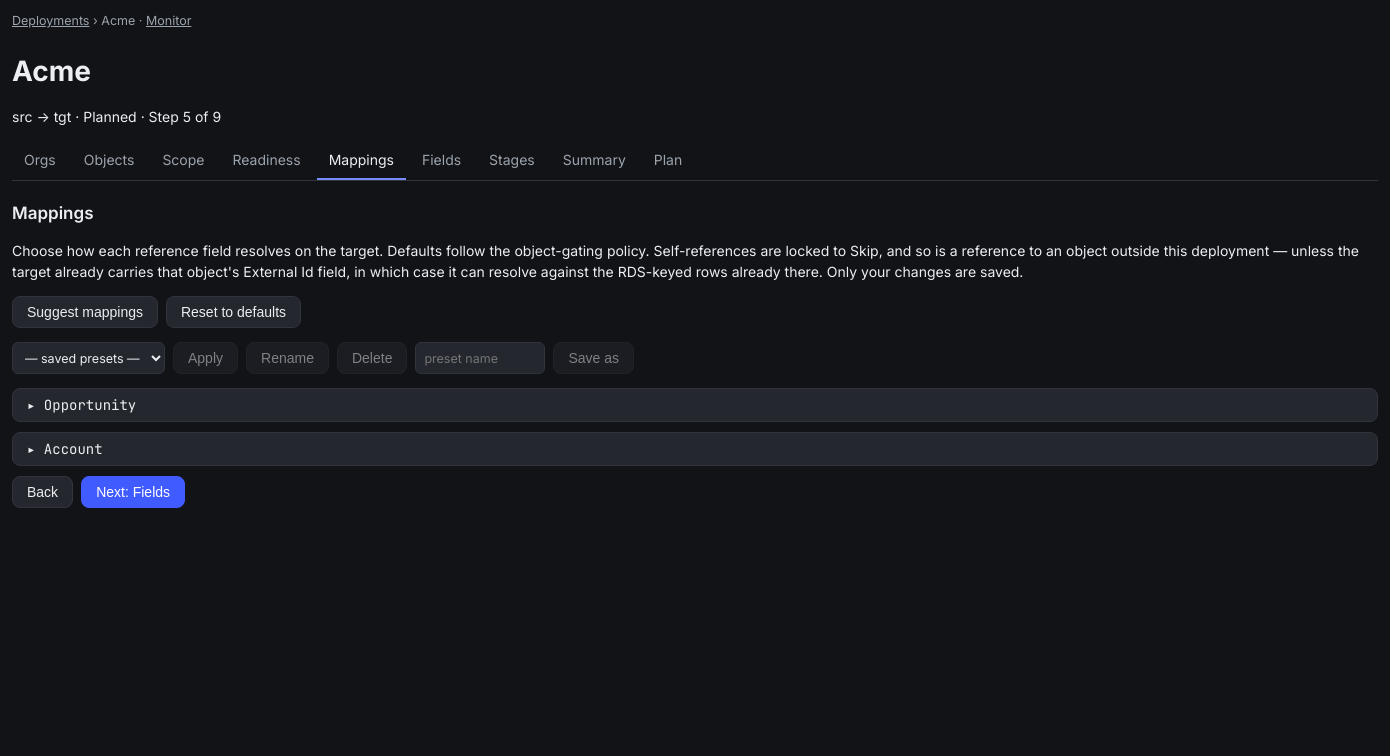
Test case: StepMappings (5B.5) › resolves the target connected user for Set to Me (User refs only)
Expected: the heading "Mappings" is shown, [12,202,94,222]
Click the button "▸ Opportunity".
click(90, 405)  # box [12,388,1378,422]
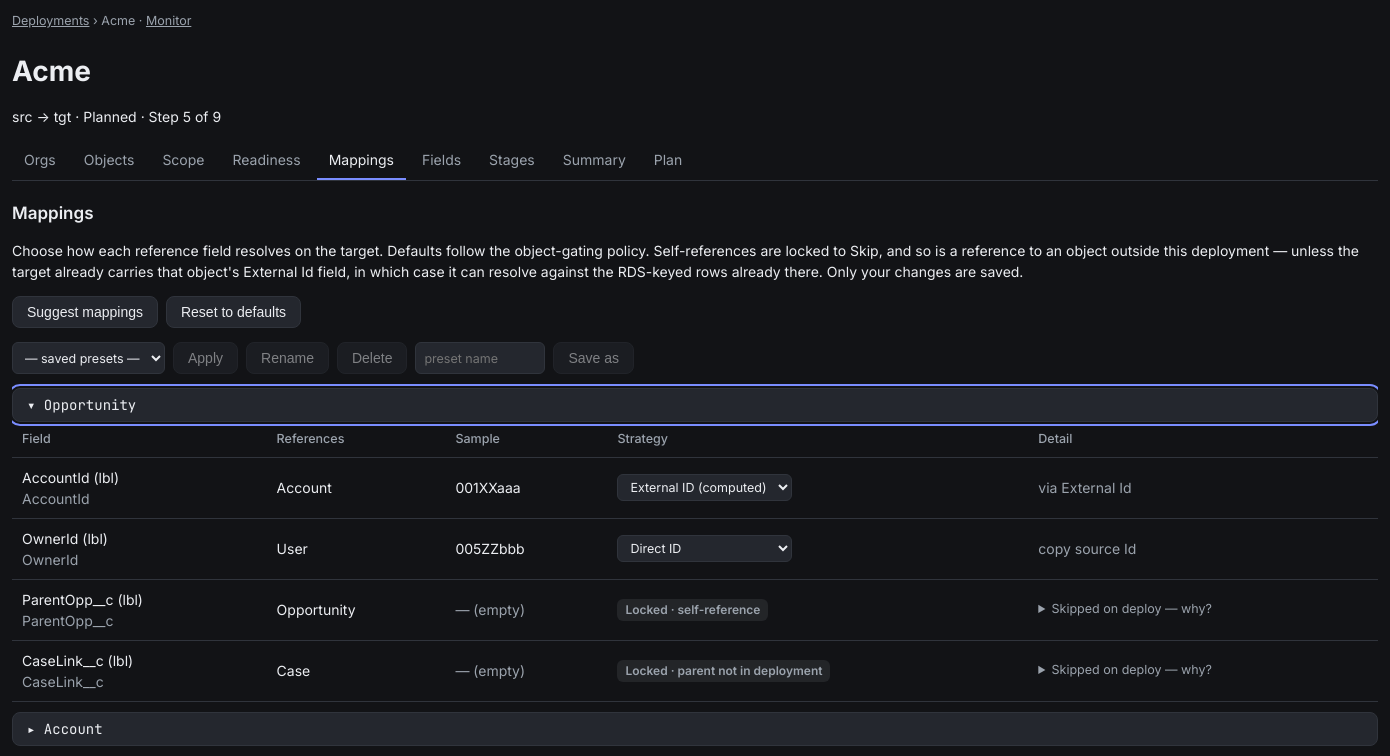
Select "Set to Me" in the dropdown named "Strategy for OwnerId" at (705, 549), box [617,535,792,562]
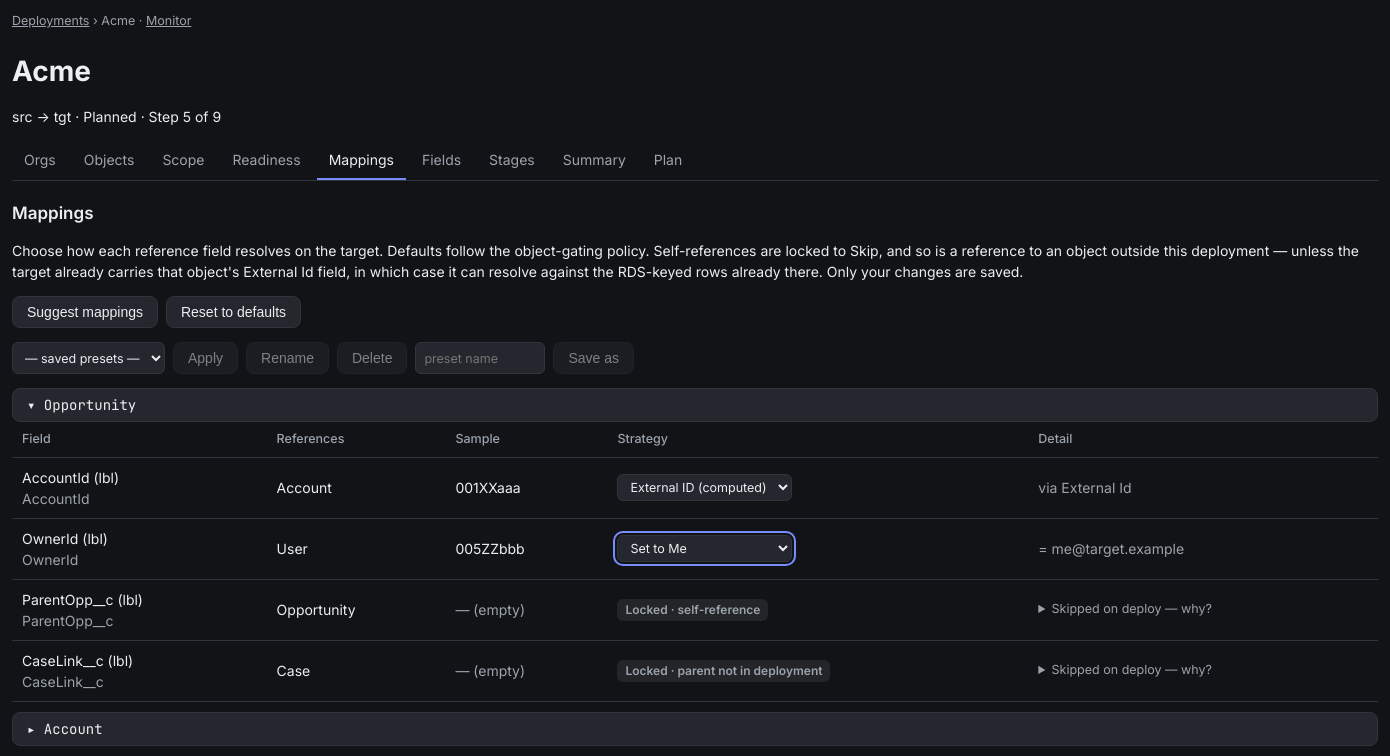
Expected: the text "= me@target.example" is shown, [1038,540,1184,557]
